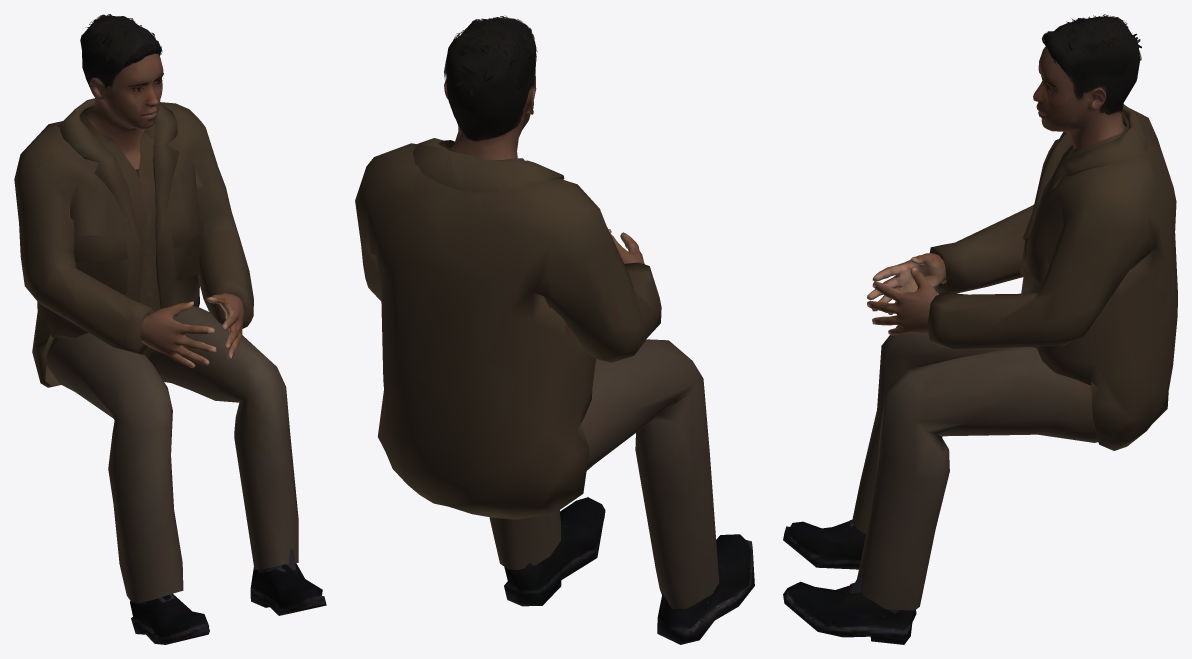
File: mq-pew_man.glb
3 renders of one model, left to right at view 1: azimuth 30°, elevation 25°; view 2: azimuth 150°, elevation 25°; view 3: azimuth 270°, elevation 25°, orthographic. The views are drawn at different scales.
Visible parts, largest first — view 1: MQ_pew_man; view 2: MQ_pew_man; view 3: MQ_pew_man.
Boxes of the visible parts, bbox=[...] form: MQ_pew_man: bbox=[14, 14, 326, 644]; MQ_pew_man: bbox=[355, 15, 754, 644]; MQ_pew_man: bbox=[783, 14, 1177, 644].
Bounding box in the file's own units: 0.5529 × 1.37 × 0.8361.
Materials: 1 (1 with a texture image).
